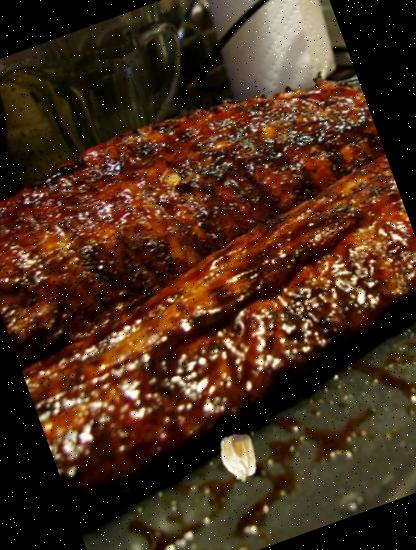Physalis: (206, 426, 272, 490)
